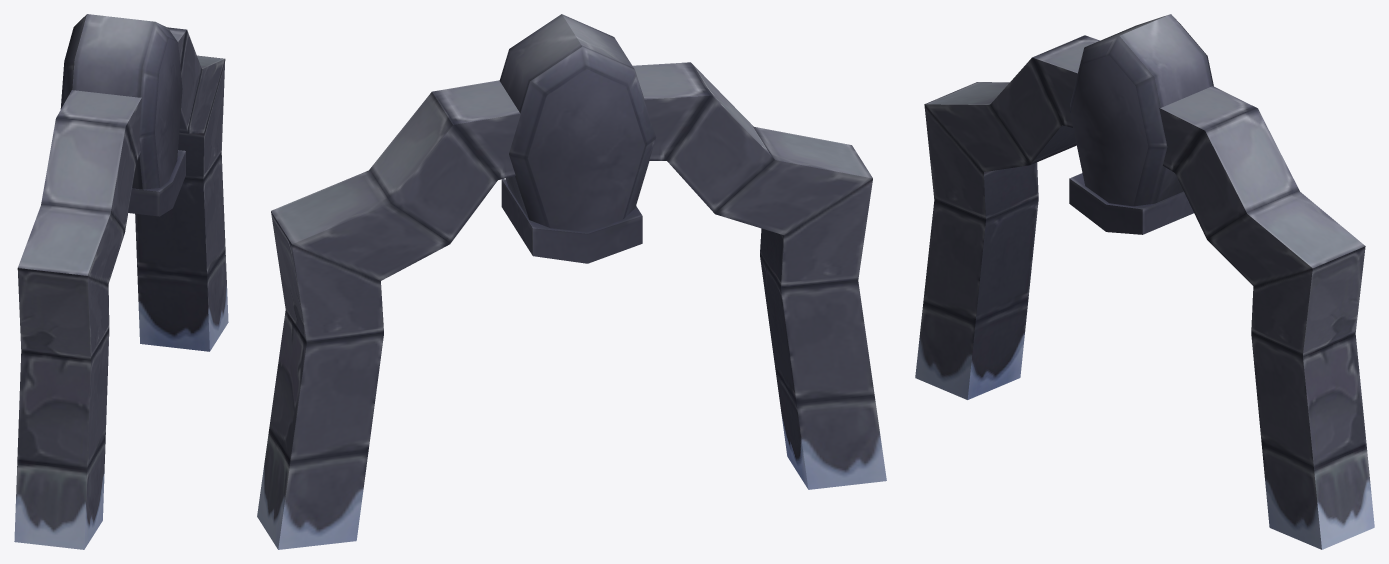
The model's file is Beidaying_xiaomen.FBX.
The picture shows the model from 3 angles, left to right: view 1: azimuth 30°, elevation 25°; view 2: azimuth 150°, elevation 25°; view 3: azimuth 270°, elevation 25°; orthographic projection. The views are drawn at different scales.
Parts seen in each view (by area): view 1: Beidaying_xiaomen; view 2: Beidaying_xiaomen; view 3: Beidaying_xiaomen.
Part boxes in pixels (x1=…): Beidaying_xiaomen: x1=14, y1=14, x2=228, y2=549; Beidaying_xiaomen: x1=257, y1=14, x2=886, y2=549; Beidaying_xiaomen: x1=915, y1=14, x2=1374, y2=549.
Bounding box in the file's own units: 130 × 130 × 134.
